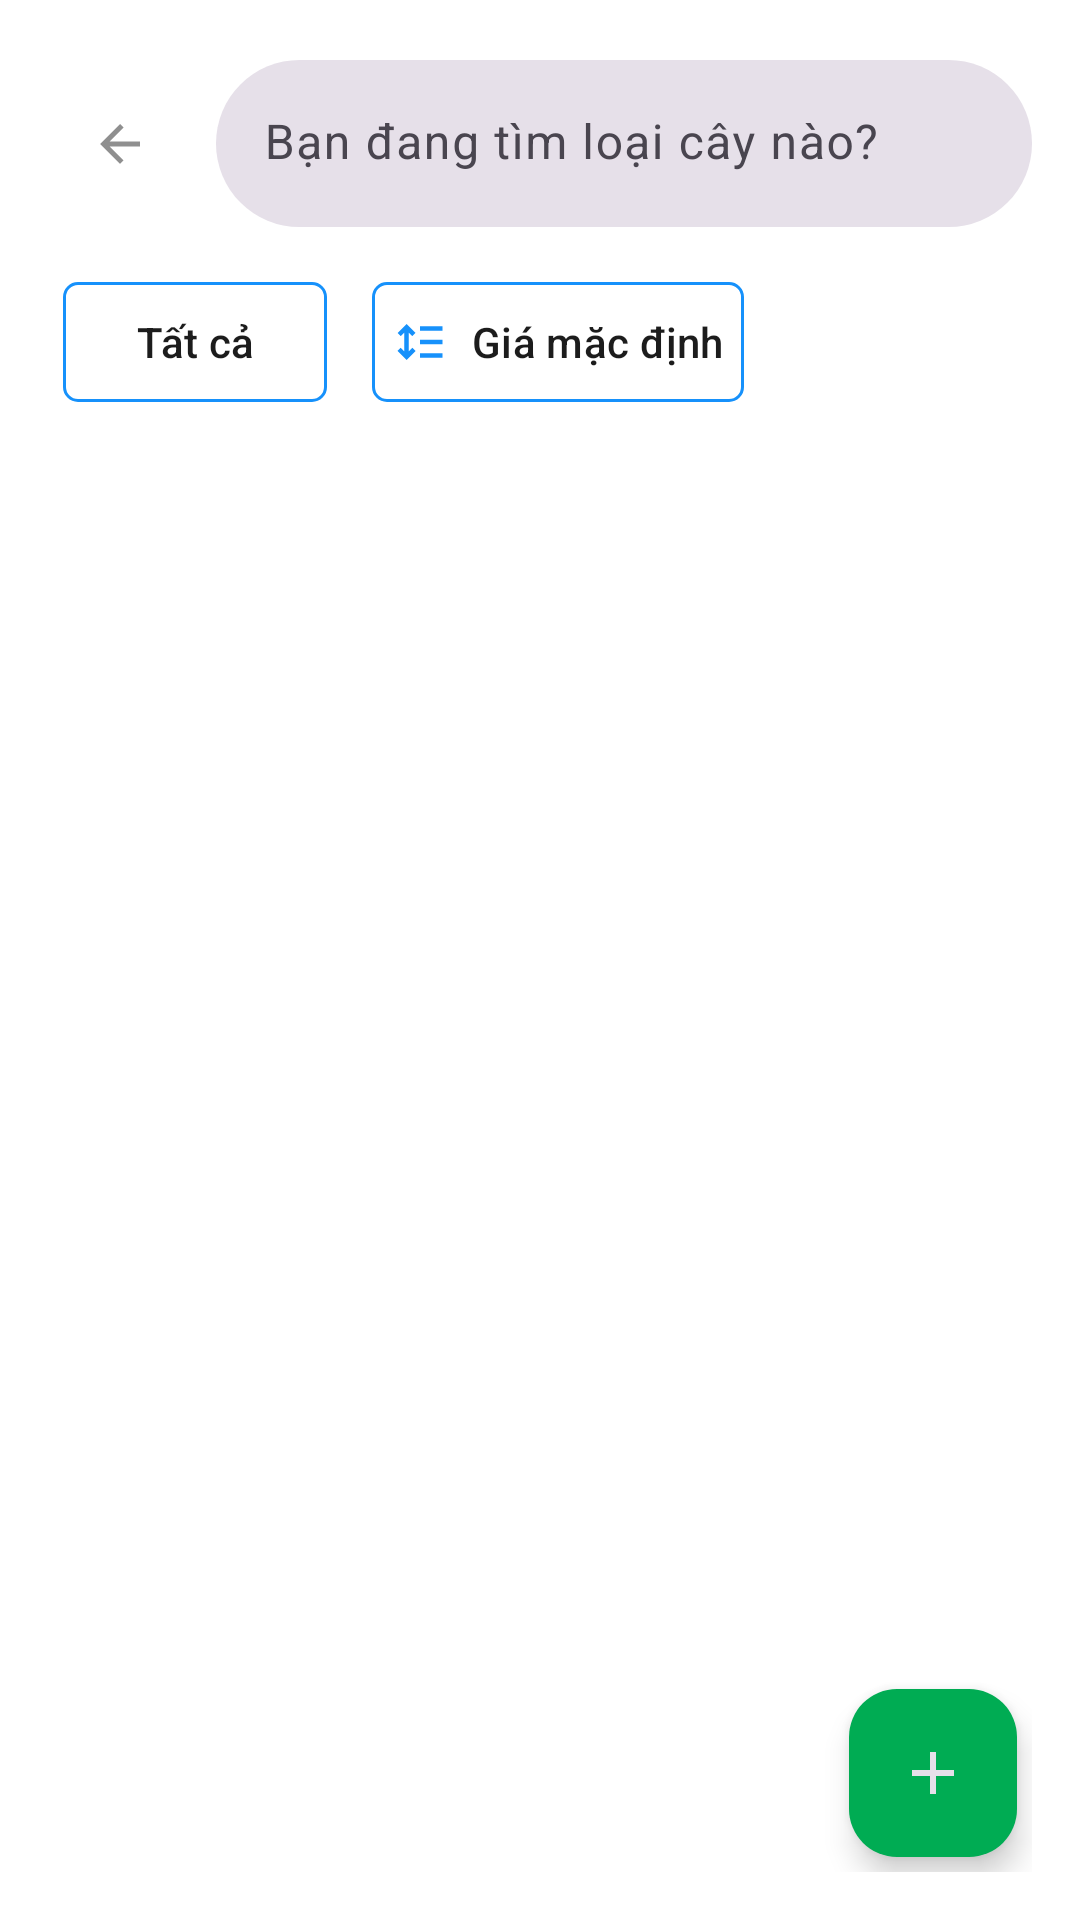

Icon click points for this 1080 × 1920 phone screenshot, format (x=x, y=y):
Add New Product: (x=933, y=1773)
back arrow: (x=120, y=144)
